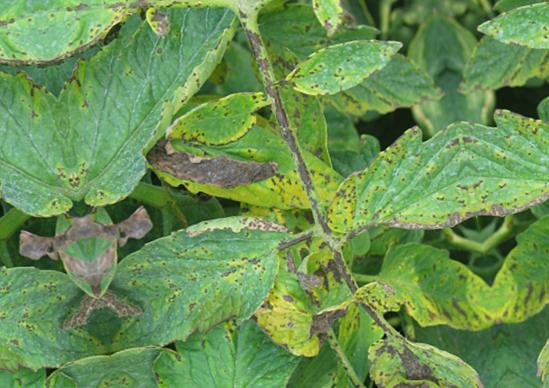Tomato leaf bacterial spot: (30, 0, 310, 211), (99, 192, 319, 362), (307, 95, 481, 267), (141, 275, 324, 388), (367, 230, 501, 359), (277, 24, 414, 110), (163, 83, 280, 161), (362, 361, 503, 388), (303, 0, 355, 44), (274, 0, 428, 4)
